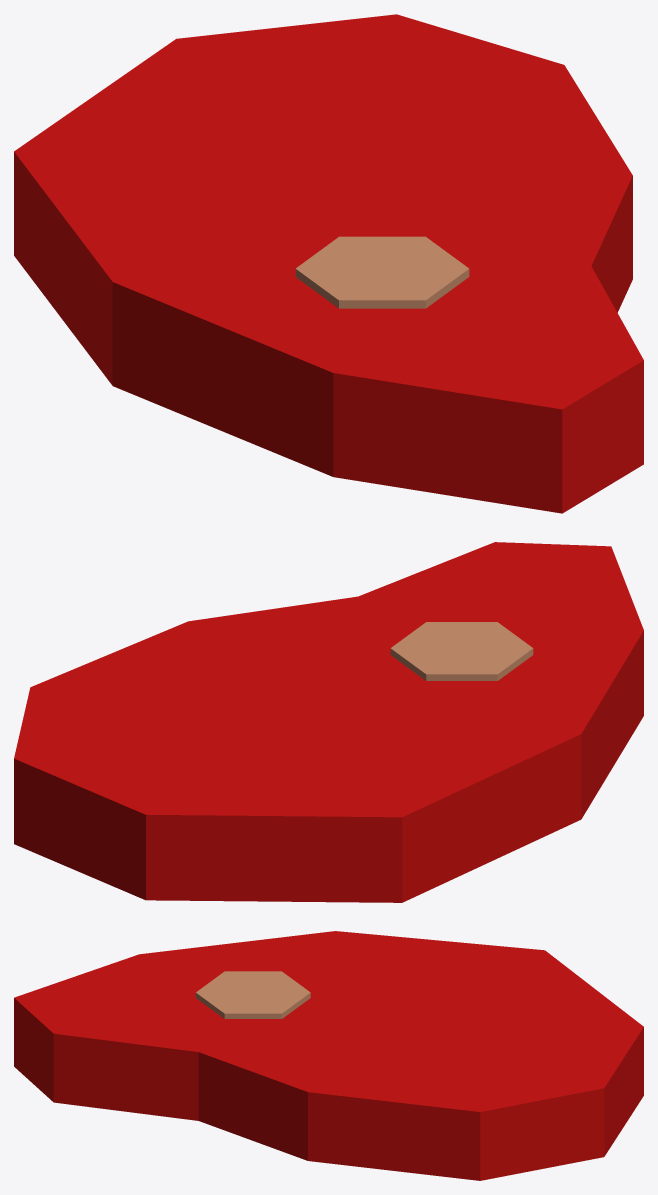
File: Steak Model.obj
The picture shows the model from 3 angles, top to bottom: view 1: azimuth 30°, elevation 25°; view 2: azimuth 150°, elevation 25°; view 3: azimuth 270°, elevation 25°; orthographic projection. The views are drawn at different scales.
Visible parts, largest first — view 1: Bone_Cylinder; view 2: Bone_Cylinder; view 3: Bone_Cylinder.
Boxes of the visible parts, bbox=[...] form: Bone_Cylinder: bbox=[14, 14, 643, 513]; Bone_Cylinder: bbox=[14, 542, 643, 902]; Bone_Cylinder: bbox=[14, 931, 643, 1180].
Size of the model in its own units: 12.64 by 2.56 by 18.58.
